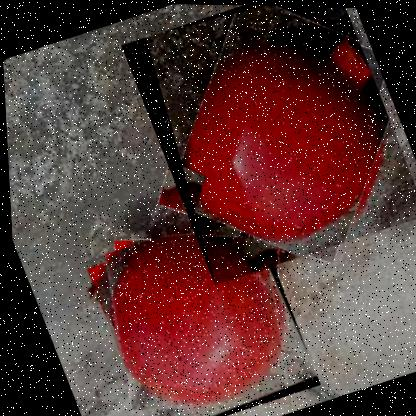pomegranate: (118, 2, 415, 289), (77, 201, 319, 415)
